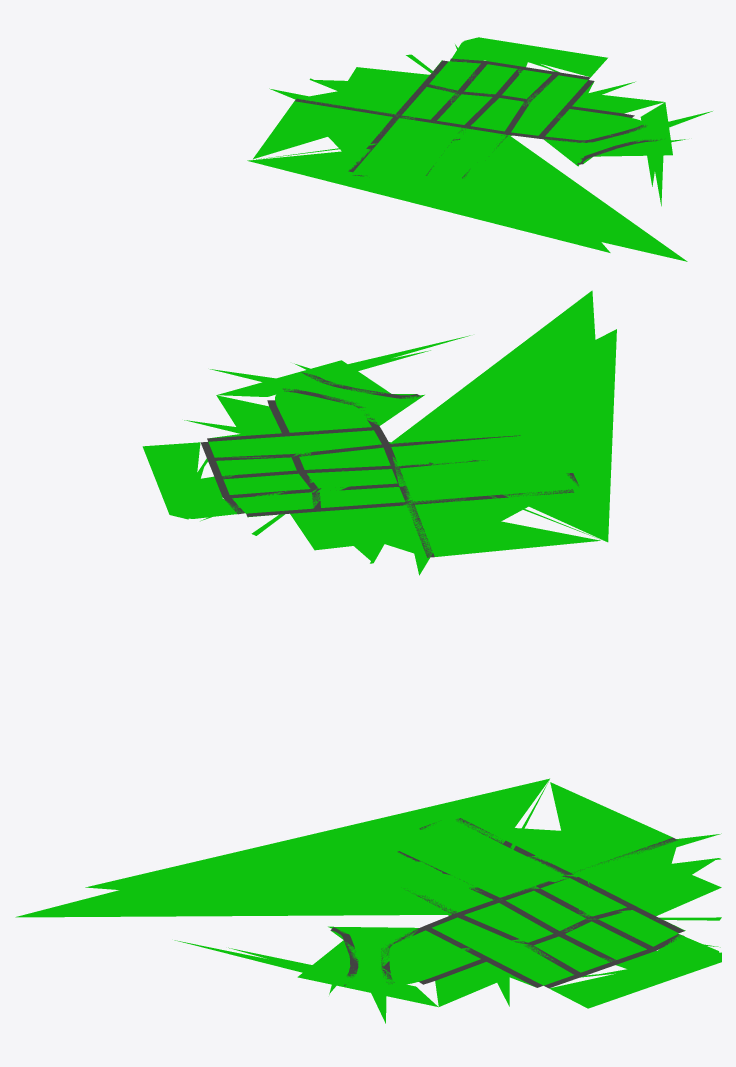
The picture shows the model from 3 angles, top to bottom: view 1: azimuth 30°, elevation 25°; view 2: azimuth 150°, elevation 25°; view 3: azimuth 270°, elevation 25°; orthographic projection. The views are drawn at different scales.
Bounding box in the file's own units: 376 × 0 × 300.
